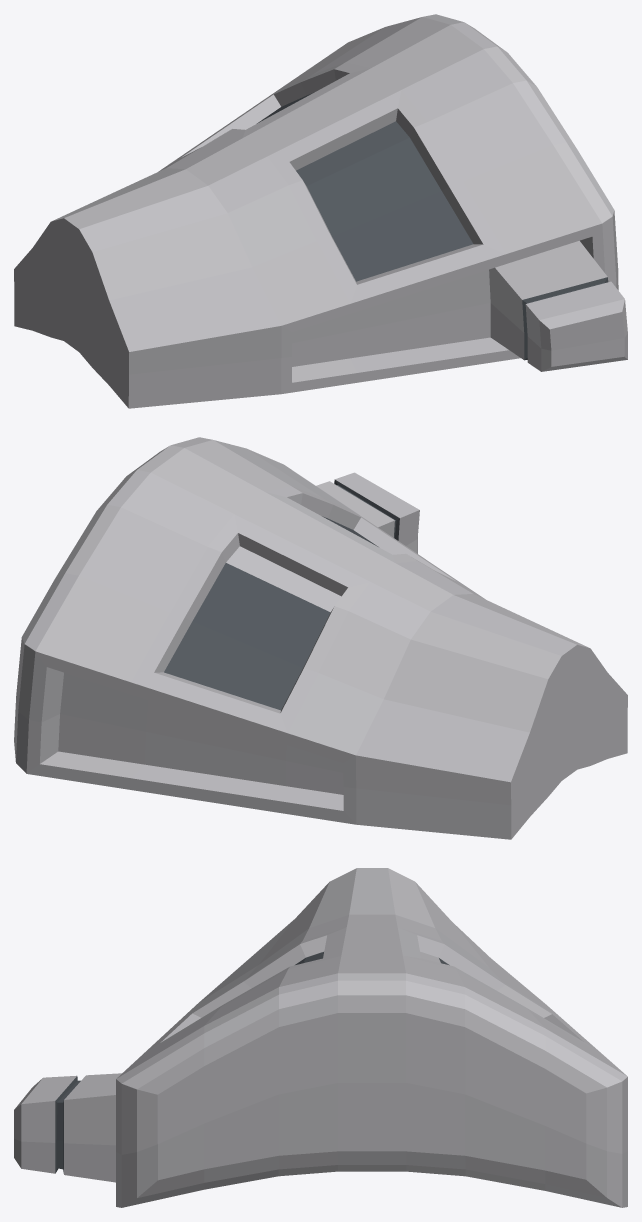
The model's file is Fighter_05_Side_Mount_Right.fbx.
3 renders of one model, top to bottom at view 1: azimuth 30°, elevation 25°; view 2: azimuth 150°, elevation 25°; view 3: azimuth 270°, elevation 25°, orthographic. The views are drawn at different scales.
Visible parts, largest first — view 1: Fighter_05_Side_Mount_Right; view 2: Fighter_05_Side_Mount_Right; view 3: Fighter_05_Side_Mount_Right.
Boxes of the visible parts, x1,y1,x2,y2 form: Fighter_05_Side_Mount_Right: (14,14,627,408); Fighter_05_Side_Mount_Right: (14,437,627,839); Fighter_05_Side_Mount_Right: (14,868,627,1207).
Bounding box in the file's own units: 402 × 206 × 477.
Materials: 2 (2 with a texture image).
